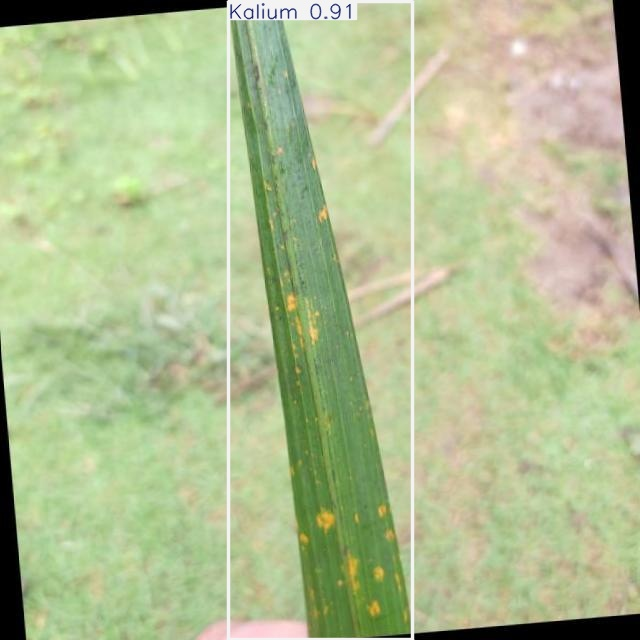Kalium: (228, 2, 413, 639)
